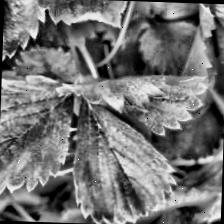Powdery Mildew Leaf: (52, 70, 209, 146), (30, 0, 144, 29), (195, 3, 224, 38)
